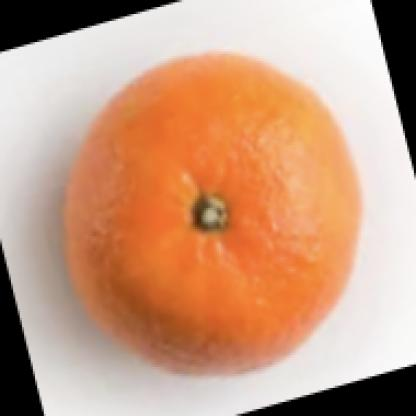fresh: (67, 57, 364, 377)
